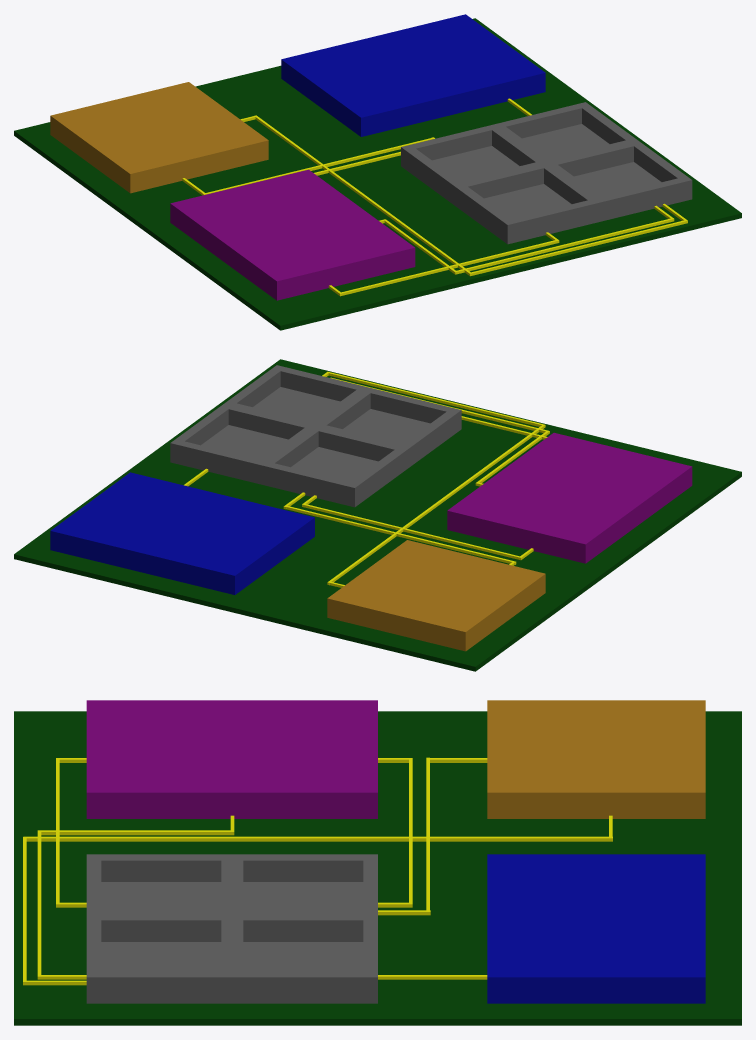
File: cpu.fbx
The picture shows the model from 3 angles, top to bottom: view 1: azimuth 30°, elevation 25°; view 2: azimuth 150°, elevation 25°; view 3: azimuth 270°, elevation 25°; orthographic projection. The views are drawn at different scales.
Parts seen in each view (by area): view 1: Cube.001, Cube.005, Cube.004, Cube.003, Cube.002, Cube.022, Cube.020, Cube.006, Cube.008, Cube.018; view 2: Cube.001, Cube.005, Cube.004, Cube.003, Cube.002, Cube.022, Cube.018, Cube.009, Cube.020, Cube.006; view 3: Cube.001, Cube.005, Cube.003, Cube.004, Cube.002, Cube.022, Cube.014, Cube.006, Cube.018, Cube.009, Cube.008, Cube.020 (+1 smaller).
Boxes of the visible parts, x1=… form: Cube.001: x1=14, y1=18, x2=741, y2=330; Cube.005: x1=401, y1=102, x2=692, y2=244; Cube.004: x1=281, y1=14, x2=545, y2=136; Cube.003: x1=170, y1=169, x2=415, y2=300; Cube.002: x1=50, y1=82, x2=268, y2=193; Cube.022: x1=255, y1=115, x2=471, y2=275; Cube.020: x1=470, y1=220, x2=687, y2=275; Cube.006: x1=455, y1=218, x2=673, y2=273; Cube.008: x1=339, y1=240, x2=556, y2=295; Cube.018: x1=202, y1=138, x2=432, y2=195; Cube.001: x1=14, y1=359, x2=741, y2=671; Cube.005: x1=170, y1=365, x2=461, y2=507; Cube.004: x1=50, y1=472, x2=314, y2=594; Cube.003: x1=447, y1=432, x2=692, y2=563; Cube.002: x1=327, y1=540, x2=545, y2=651; Cube.022: x1=327, y1=424, x2=545, y2=585; Cube.018: x1=286, y1=506, x2=516, y2=564; Cube.009: x1=302, y1=504, x2=521, y2=560; Cube.020: x1=327, y1=372, x2=542, y2=426; Cube.006: x1=331, y1=378, x2=548, y2=433; Cube.001: x1=14, y1=711, x2=741, y2=1025; Cube.005: x1=86, y1=854, x2=377, y2=1003; Cube.003: x1=86, y1=700, x2=377, y2=818; Cube.004: x1=487, y1=854, x2=705, y2=1003; Cube.002: x1=487, y1=700, x2=705, y2=818; Cube.022: x1=23, y1=836, x2=612, y2=841; Cube.014: x1=37, y1=830, x2=234, y2=835; Cube.006: x1=37, y1=831, x2=41, y2=974; Cube.018: x1=426, y1=757, x2=429, y2=910; Cube.009: x1=409, y1=758, x2=412, y2=907; Cube.008: x1=56, y1=758, x2=59, y2=907; Cube.020: x1=23, y1=837, x2=26, y2=980.
Size of the model in its own units: 2000 by 100 by 2000.
